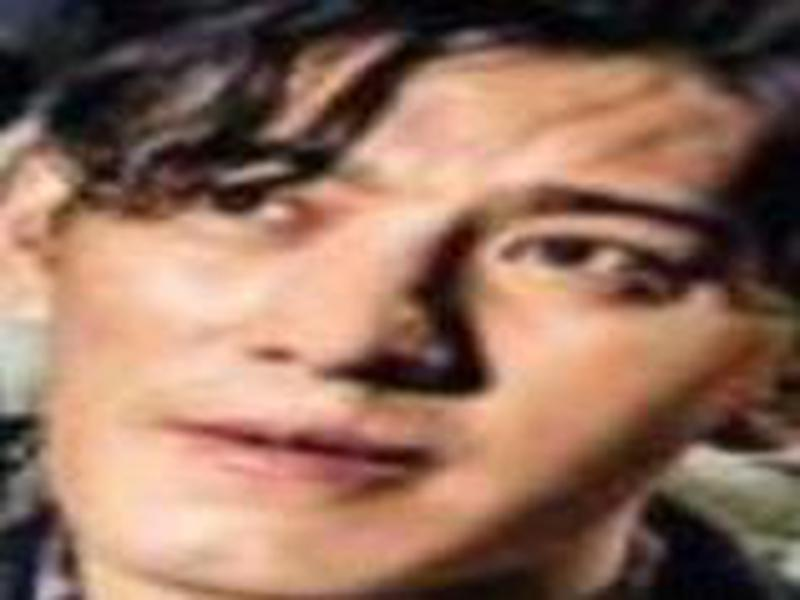without_mask: (48, 38, 731, 593)
